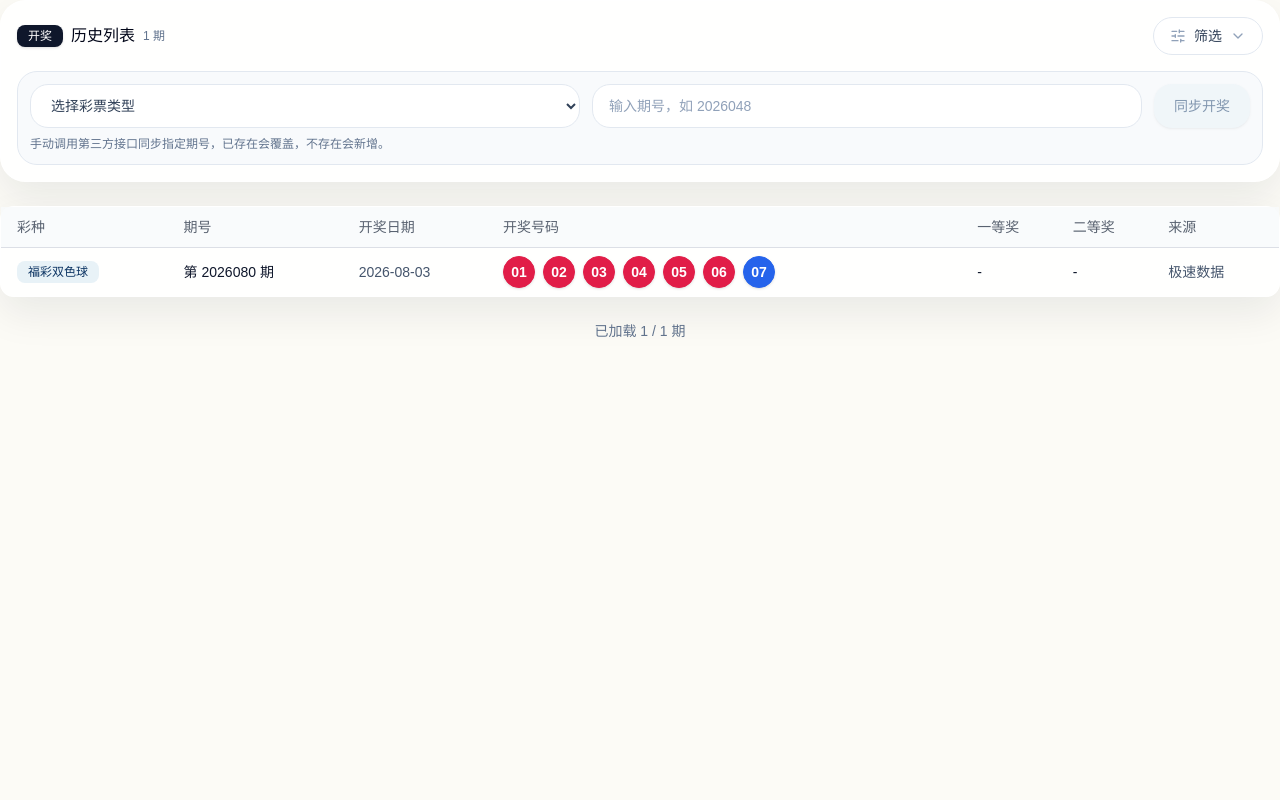
Test: opens the shared detail sheet from the whole draw row
The width and height of the screenshot is (1280, 800).
Expected: the button "补全" is not shown
Expected: the button "详情" is not shown
Click the button "福彩双色球 第 2026080 期 2026-08-03 01 02 03 04 05 06 07 - - 极速数据".
click(640, 271)  # box [1,247,1279,296]
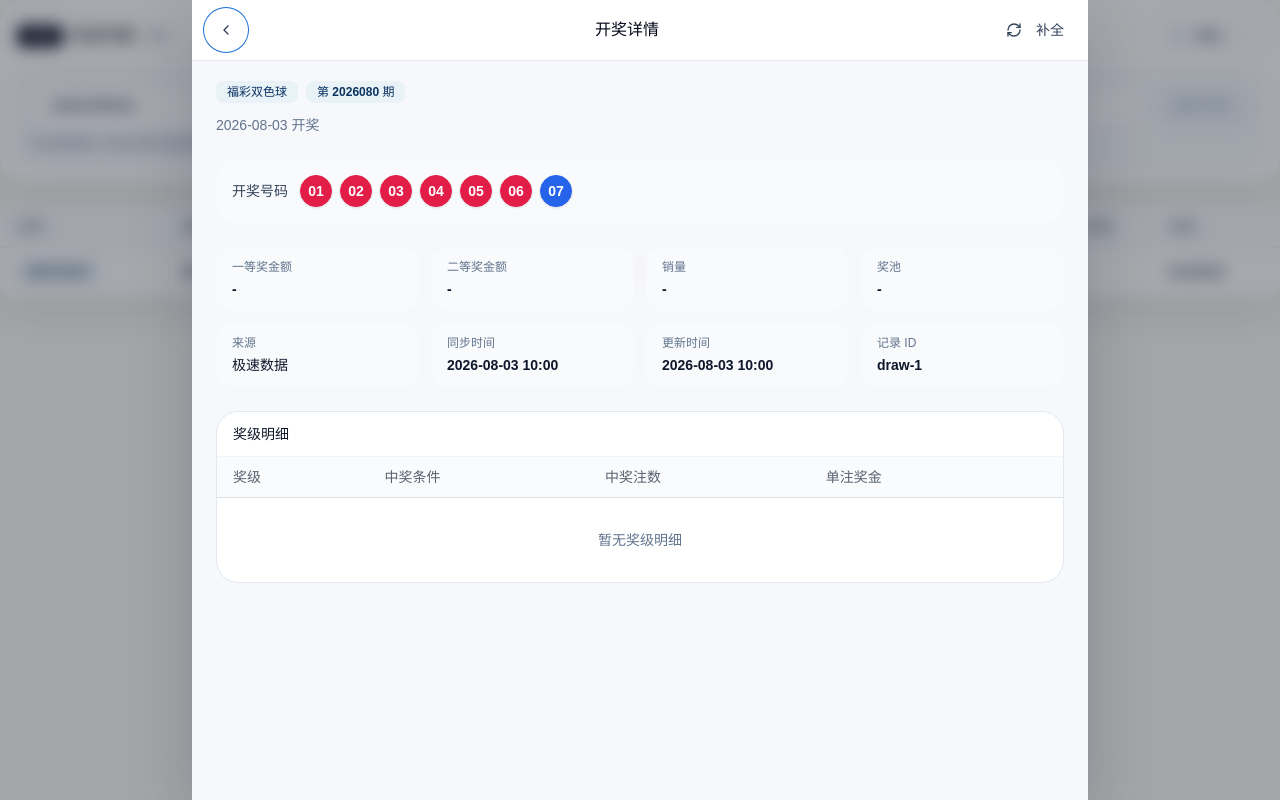
Expected: the heading "开奖详情" is shown, [595,21,659,38]
Expected: the button named "返回" is shown, [204,8,248,52]
Expected: the button "补全" is shown, [994,8,1076,52]
